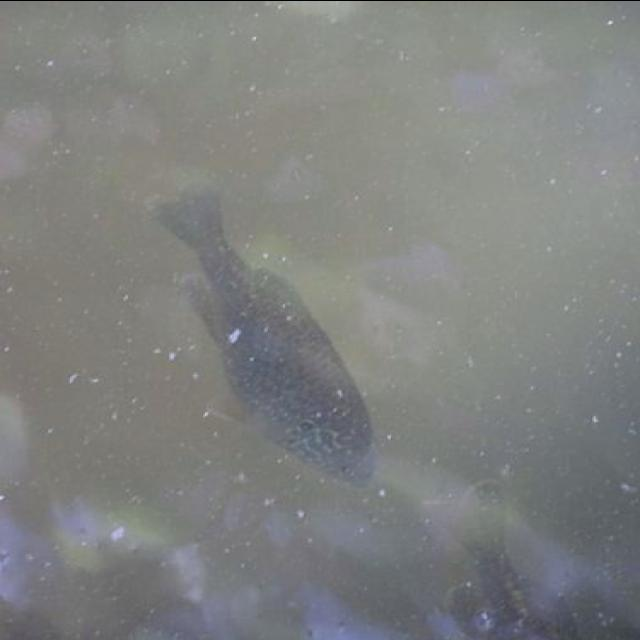Gunes Levregi: (127, 158, 387, 492)
